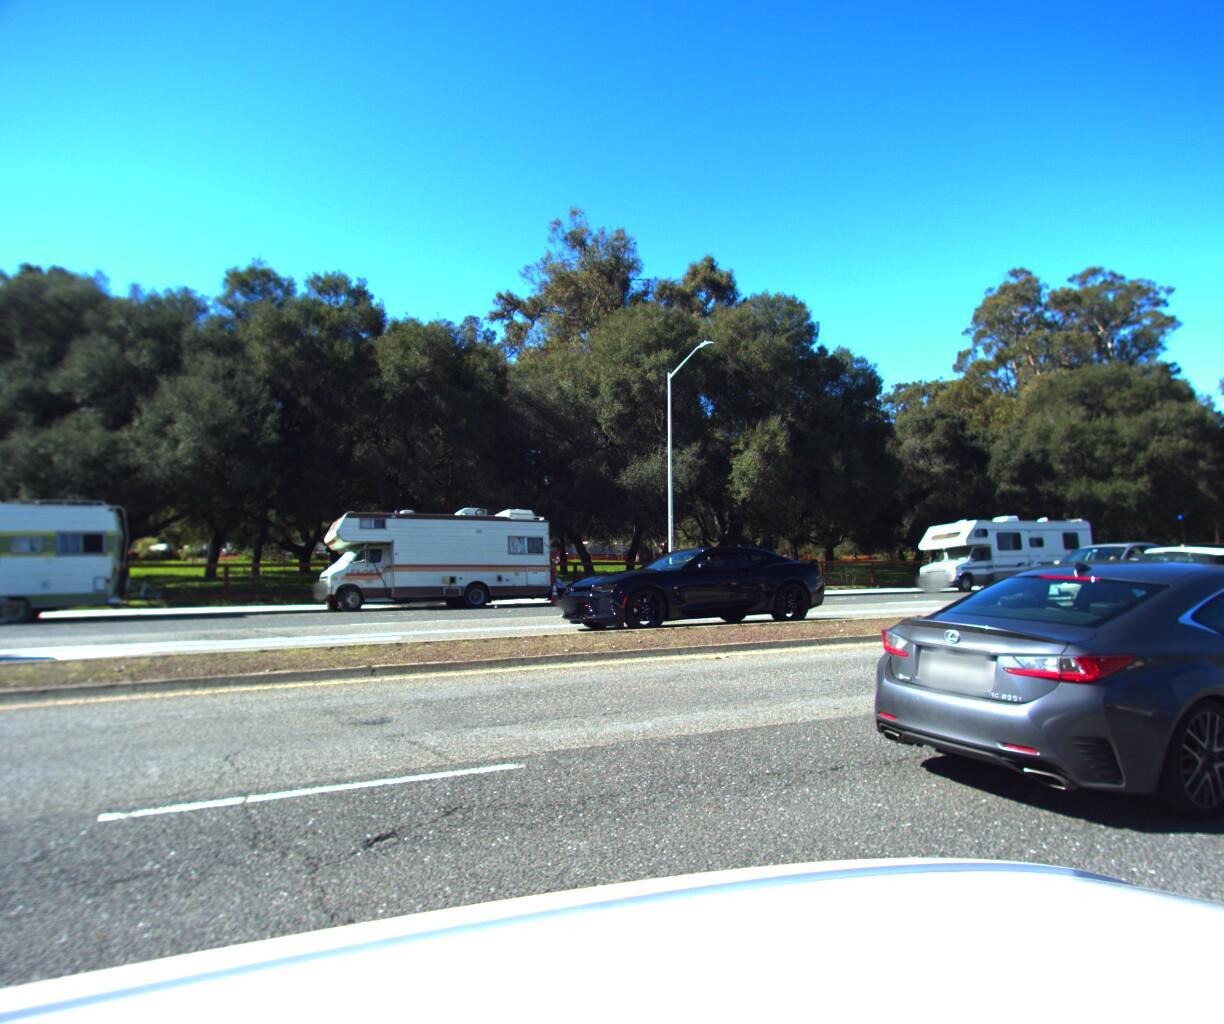bus: (1216, 513, 1224, 577)
car: (823, 554, 1224, 858), (551, 535, 841, 628), (1001, 525, 1205, 602), (1106, 536, 1224, 655), (1134, 539, 1224, 581)
other_vehicle: (307, 493, 567, 612), (0, 478, 136, 634), (894, 504, 1099, 591), (538, 566, 588, 602)
